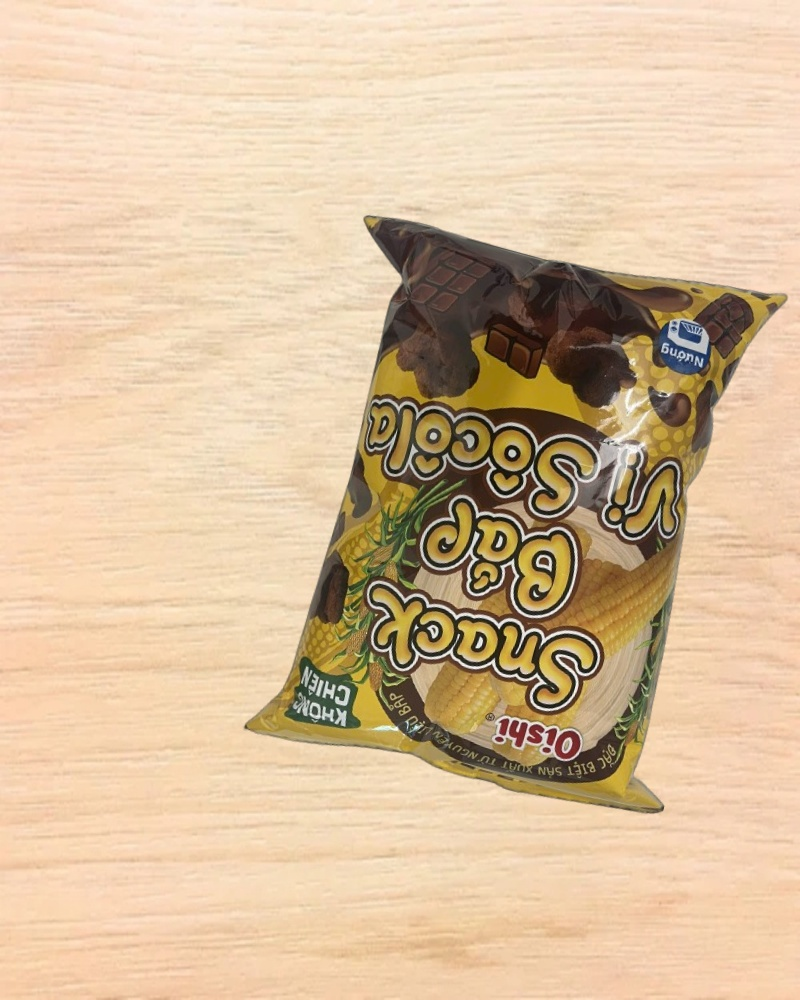Snack socola: (230, 188, 799, 839)
